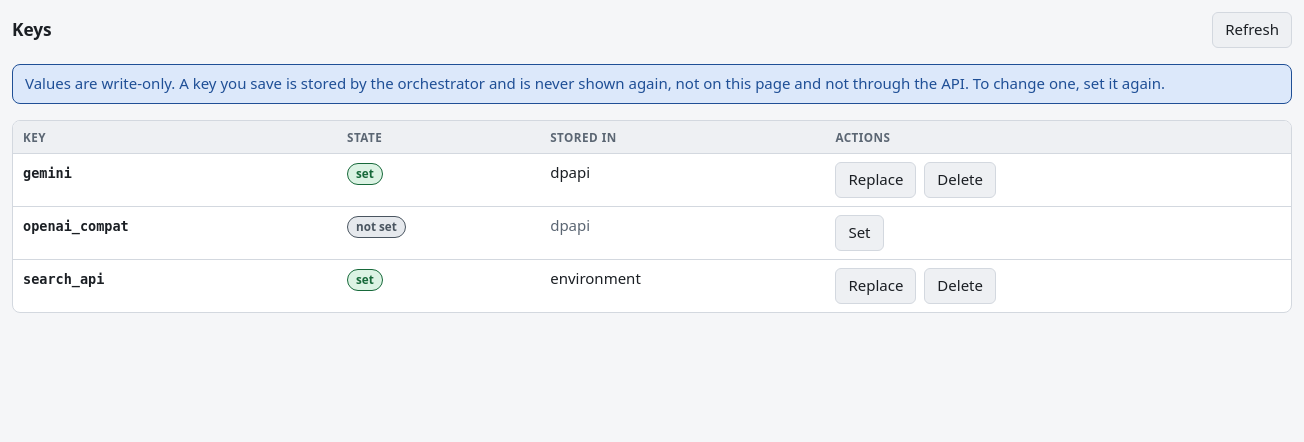
Test case: setting a key › a refusal is shown in the server's words; the field stays empty and the value appears nowhere
Check: the text "gemini" is shown, box [23,166,72,182]
Click the button "Replace" in the row of "search_api" at (876, 286), box [835,268,916,304]
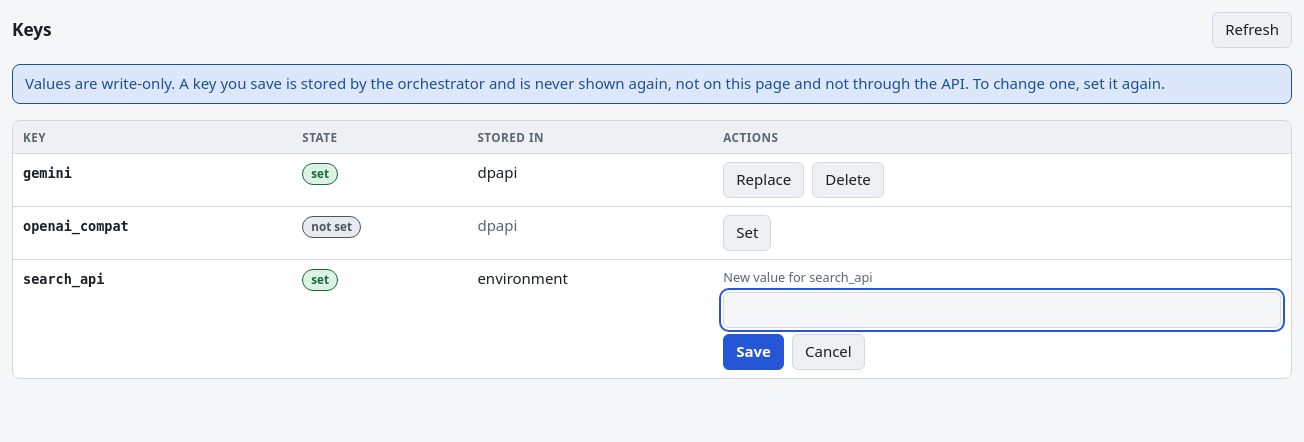
Type "test-secret-123" into the password field labelled "New value for search_api" at (1002, 310), box [723,292,1281,328]
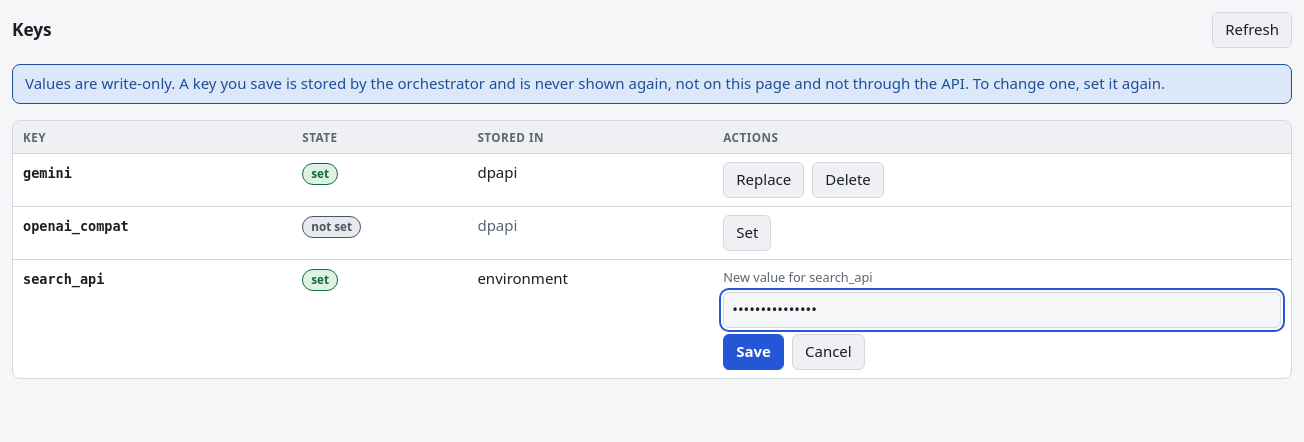
Submit the form, box [723,268,1281,370]
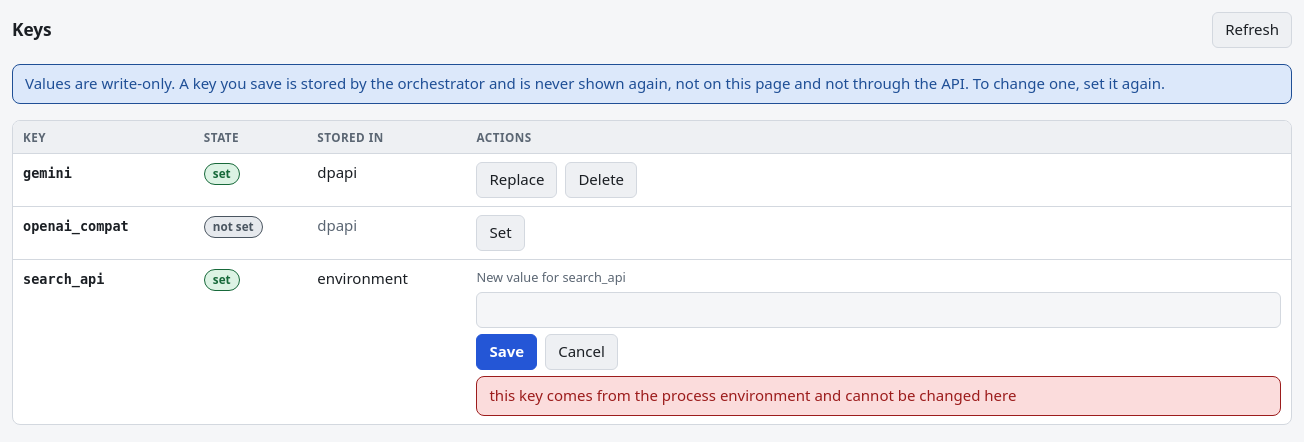
Check: the message "this key comes from the process environment and cannot be changed here" is shown, box [476,376,1281,416]
Check: the password field labelled "New value for search_api" is empty, box [476,292,1281,328]
